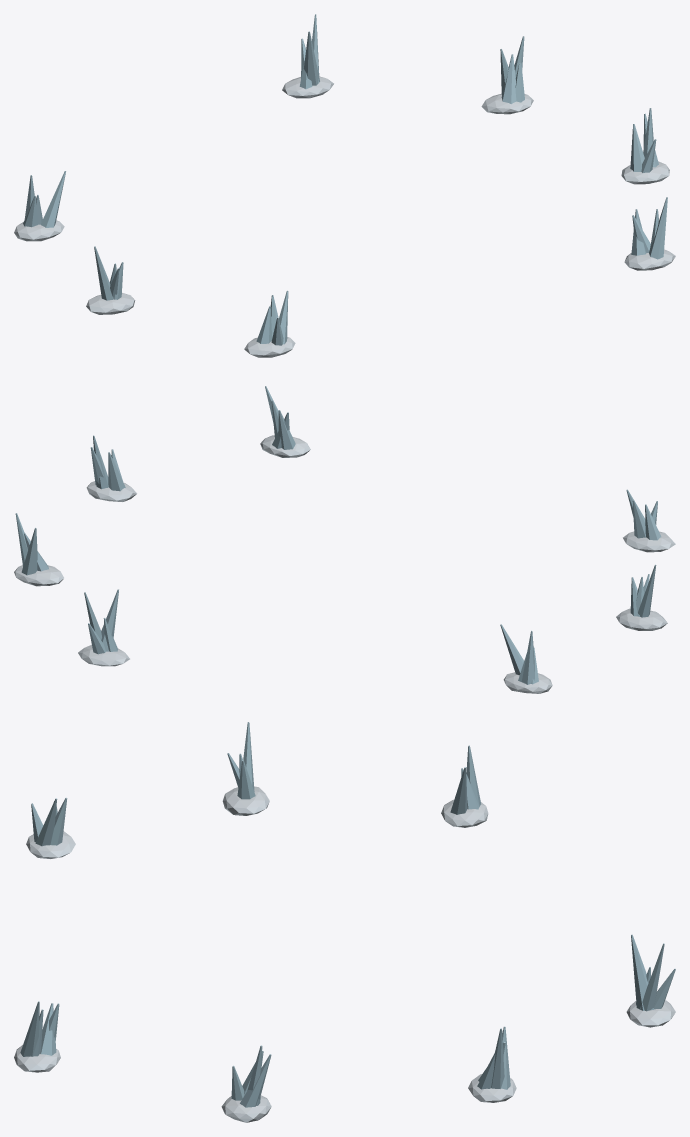
The model's file is goo_jar_props@crystal.fbx.
3 views of the same model, one above another, from view 1: azimuth 30°, elevation 25°; view 2: azimuth 150°, elevation 25°; view 3: azimuth 270°, elevation 25° (orthographic). The views are drawn at different scales.
Visible parts, largest first — view 1: goo_jar_props; view 2: goo_jar_props; view 3: goo_jar_props.
Part boxes in pixels (box(x1,y1,x2,y2)): goo_jar_props: box(14, 14, 675, 357); goo_jar_props: box(14, 386, 675, 693); goo_jar_props: box(14, 722, 675, 1122).
Size of the model in its own units: 70.65 by 8.38 by 59.61.
